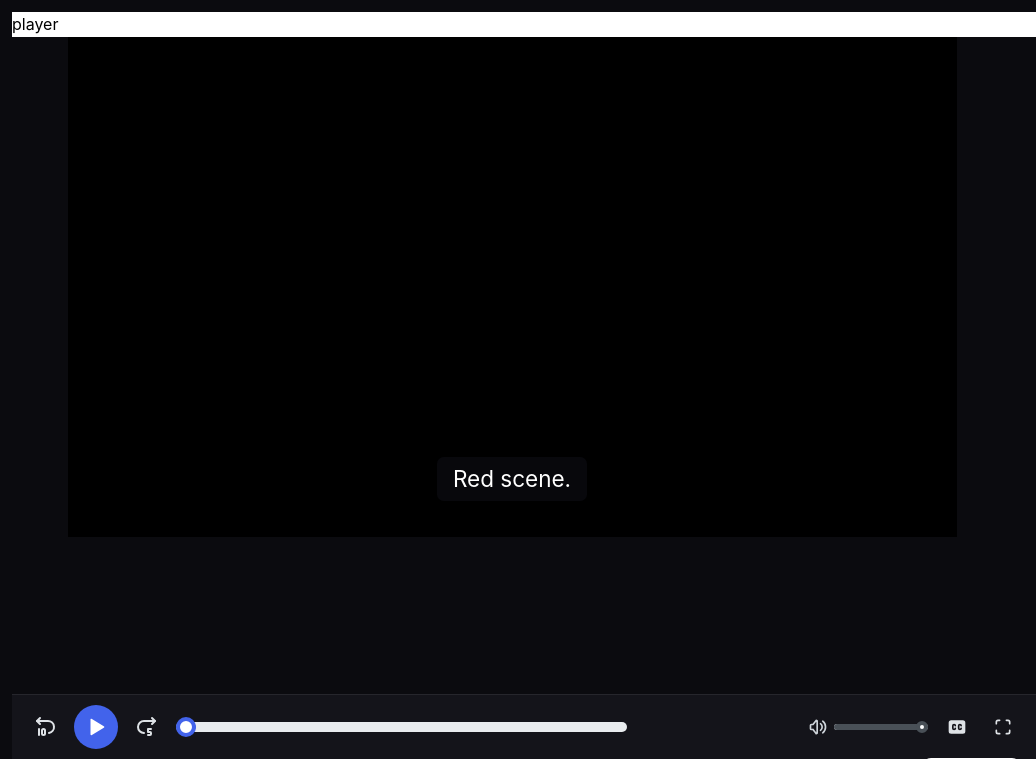
Scenario: Player with a Talkie film › clicking the picture while the film plays pauses it; holding zooms only while paused
Later steps or results of the test are not shown.
Click the button with test id "play-pause" at (96,727), box [74,705,118,749]
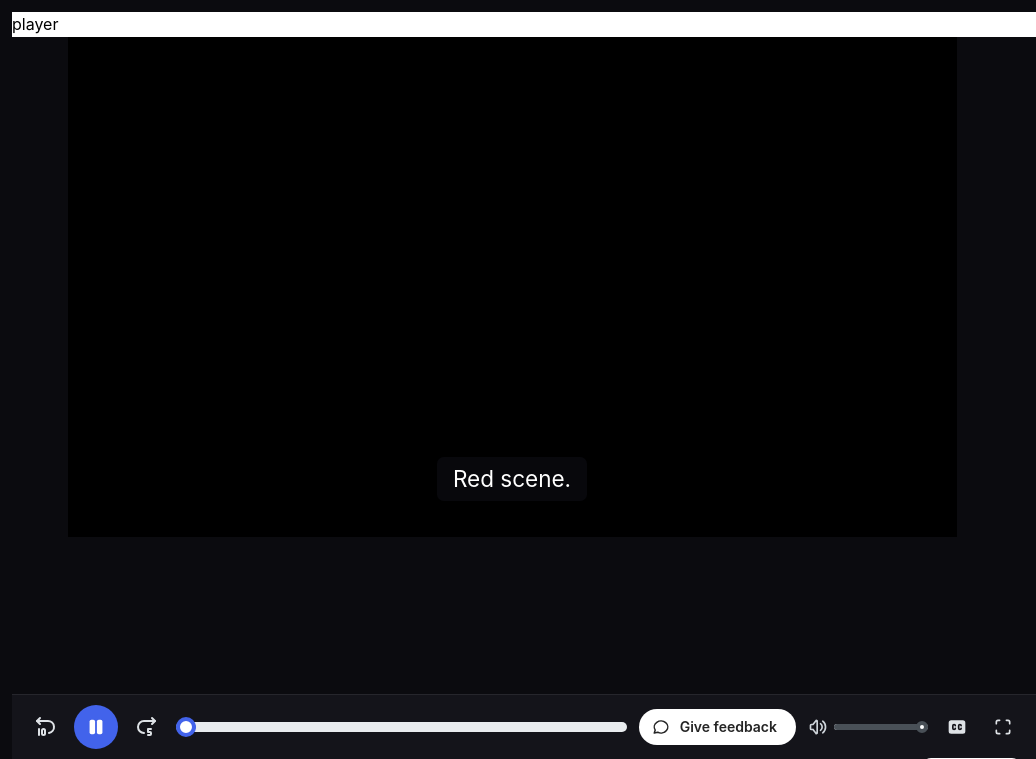
Press the mouse on the element with test id "video-stage" at (524,366), box [12,37,1035,694]
Click the element with test id "video-stage" at (975,366), box [12,37,1035,694]
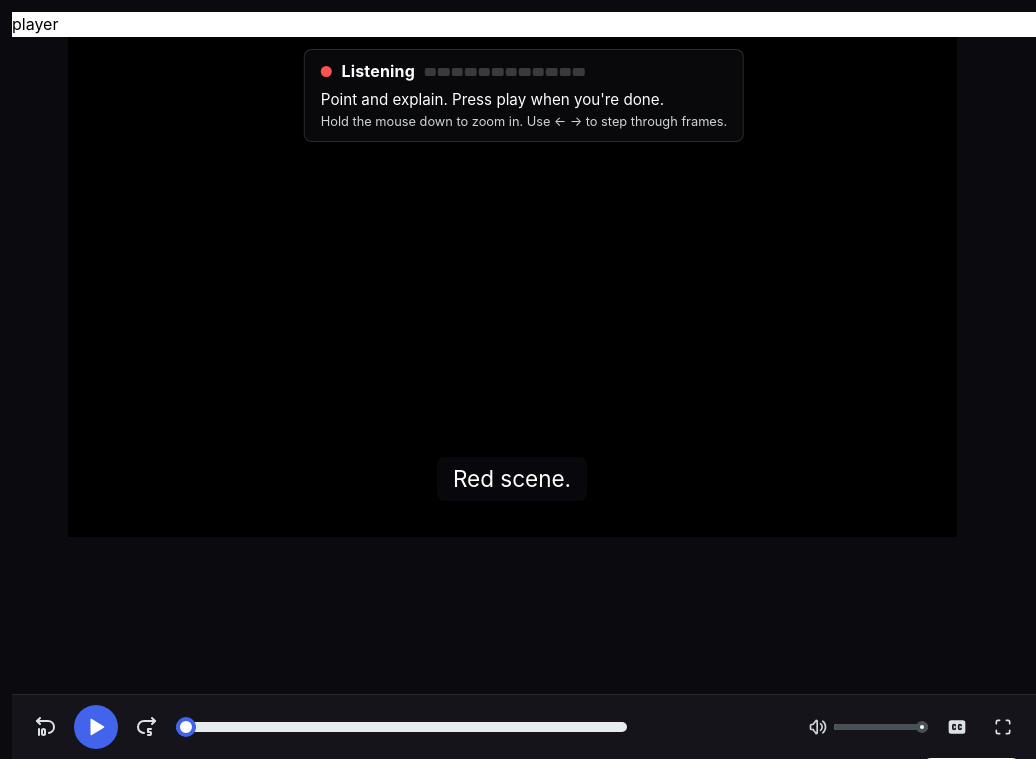
Expected: the message with test id "listening-overlay" is shown, [304,49,744,142]
